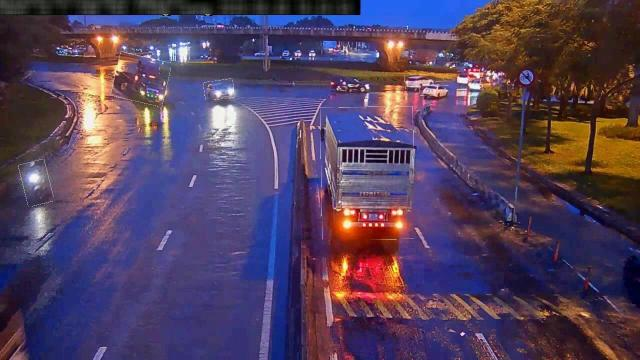Bike: (20, 160, 52, 206)
Car: (204, 80, 234, 100), (406, 74, 434, 90), (419, 84, 448, 96)
Truck: (321, 106, 414, 240), (113, 55, 169, 105)
